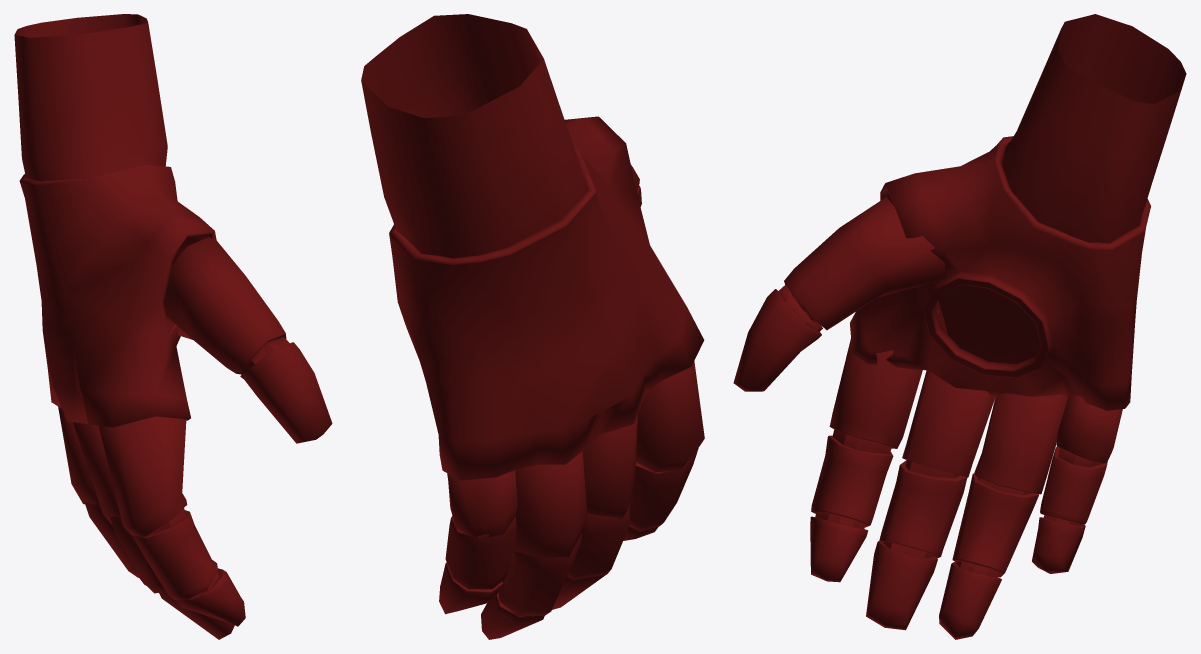
Rendered from irighthand.obj.
3 renders of one model, left to right at view 1: azimuth 30°, elevation 25°; view 2: azimuth 150°, elevation 25°; view 3: azimuth 270°, elevation 25°, orthographic. The views are drawn at different scales.
Visible parts, largest first — view 1: HD_Ironman:Object13; view 2: HD_Ironman:Object13; view 3: HD_Ironman:Object13.
Boxes of the visible parts, x1,y1,x2,y2 form: HD_Ironman:Object13: (14, 14, 332, 639); HD_Ironman:Object13: (361, 14, 704, 639); HD_Ironman:Object13: (733, 14, 1186, 639).
Size of the model in its own units: 0.8247 by 2.68 by 1.89.
